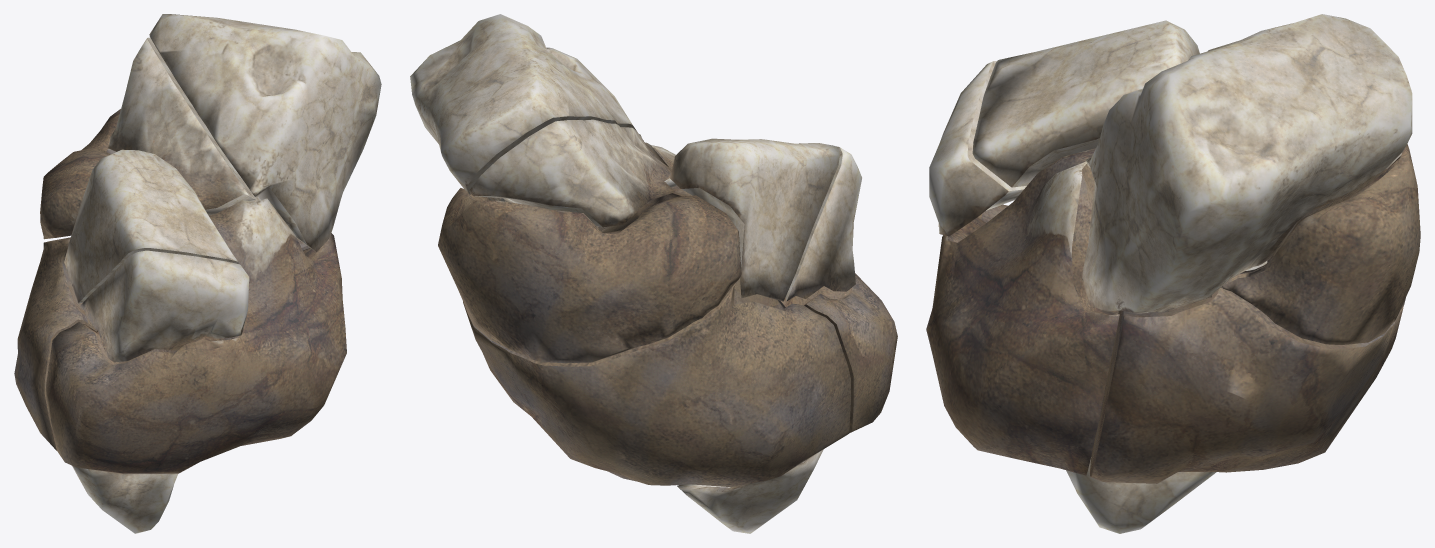
File: SM_Stone3_Pieces.fbx
3 renders of one model, left to right at view 1: azimuth 30°, elevation 25°; view 2: azimuth 150°, elevation 25°; view 3: azimuth 270°, elevation 25°, orthographic. The views are drawn at different scales.
Parts seen in each view (by area): view 1: SM_Stone3_Pieces_4, SM_Stone3_Pieces_8, SM_Stone3_Pieces_2, SM_Stone3_Pieces_1, SM_Stone3_Pieces_7, SM_Stone3_Pieces_5, SM_Stone3_Pieces_3, SM_Stone3_Pieces_6; view 2: SM_Stone3_Pieces_5, SM_Stone3_Pieces_6, SM_Stone3_Pieces_8, SM_Stone3_Pieces_2, SM_Stone3_Pieces_7, SM_Stone3_Pieces_4, SM_Stone3_Pieces_1, SM_Stone3_Pieces_3; view 3: SM_Stone3_Pieces_8, SM_Stone3_Pieces_4, SM_Stone3_Pieces_5, SM_Stone3_Pieces_6, SM_Stone3_Pieces_2, SM_Stone3_Pieces_1, SM_Stone3_Pieces_3.
Boxes of the visible parts, bbox=[...] form: SM_Stone3_Pieces_4: bbox=[45, 198, 346, 473]; SM_Stone3_Pieces_8: bbox=[149, 14, 381, 251]; SM_Stone3_Pieces_2: bbox=[64, 149, 238, 303]; SM_Stone3_Pieces_1: bbox=[79, 250, 249, 362]; SM_Stone3_Pieces_7: bbox=[107, 37, 260, 215]; SM_Stone3_Pieces_5: bbox=[14, 237, 309, 451]; SM_Stone3_Pieces_3: bbox=[72, 465, 177, 533]; SM_Stone3_Pieces_6: bbox=[40, 109, 120, 239]; SM_Stone3_Pieces_5: bbox=[463, 226, 850, 487]; SM_Stone3_Pieces_6: bbox=[438, 188, 741, 363]; SM_Stone3_Pieces_8: bbox=[410, 14, 643, 201]; SM_Stone3_Pieces_2: bbox=[670, 138, 839, 301]; SM_Stone3_Pieces_7: bbox=[469, 119, 676, 227]; SM_Stone3_Pieces_4: bbox=[651, 145, 897, 432]; SM_Stone3_Pieces_1: bbox=[785, 146, 861, 301]; SM_Stone3_Pieces_3: bbox=[677, 449, 823, 533]; SM_Stone3_Pieces_8: bbox=[1081, 14, 1412, 313]; SM_Stone3_Pieces_4: bbox=[926, 148, 1119, 475]; SM_Stone3_Pieces_5: bbox=[1090, 273, 1403, 483]; SM_Stone3_Pieces_6: bbox=[1222, 144, 1420, 344]; SM_Stone3_Pieces_2: bbox=[972, 20, 1199, 187]; SM_Stone3_Pieces_1: bbox=[929, 61, 1026, 236]; SM_Stone3_Pieces_3: bbox=[1066, 457, 1216, 533].
Size of the model in its own units: 1.16 by 1.32 by 0.9873.
